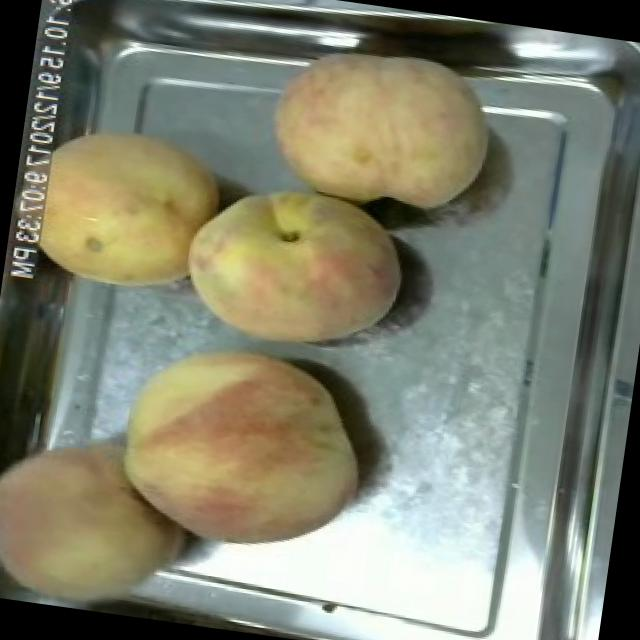Fruit: (94, 322, 385, 574), (252, 23, 508, 226), (170, 171, 421, 371), (10, 108, 238, 307), (0, 416, 202, 623)
